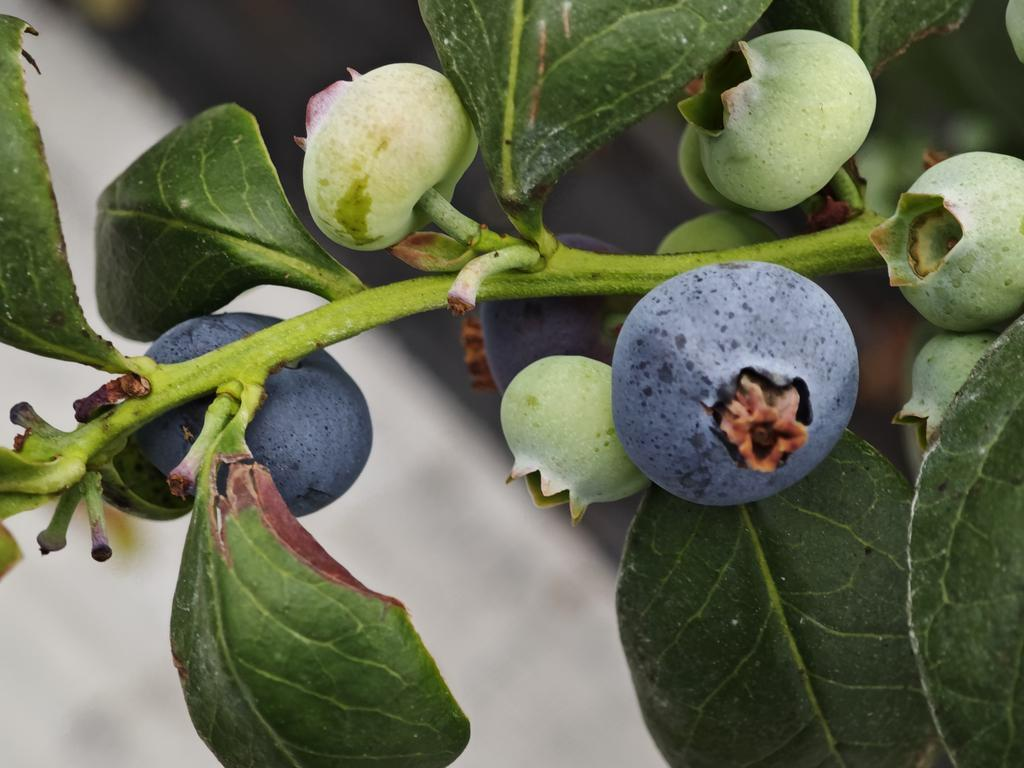RipeBlueBerry: (610, 259, 864, 508)
UnripeBlueBerry: (292, 58, 482, 254)
